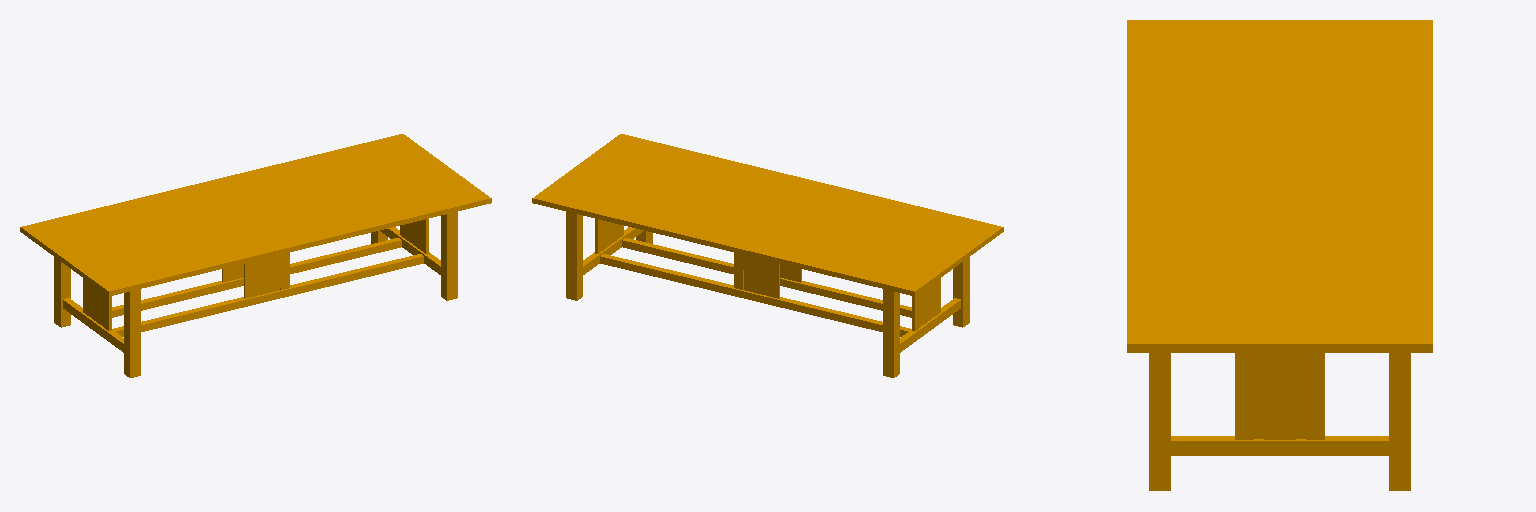
The robot description file, URDF, robot "dining_table_01":
<?xml version="1.0" ?>
<robot name="dining_table_01">
  <link name="baseLink">
    <contact>
      <lateral_friction value="1.0"/>
      <inertia_scaling value="3.0"/>
    </contact>
    <inertial>
      <origin rpy="0 0 0" xyz="-0.000 -0.000 -0.125"/>
       <mass value=".1"/>
       <inertia ixx="1" ixy="0.0" ixz="0.0" iyy="1" iyz="0.0" izz="1"/>
    </inertial>
    <visual>
      <origin rpy="0 0 0" xyz="0 0 0"/>
      <geometry>
        <mesh filename="visual.obj" scale="1.000 1.000 1.000"/>
      </geometry>
    </visual>
    <collision>
      <origin rpy="0 0 0" xyz="0 0 0"/>
      <geometry>
        <mesh filename="visual.obj" scale="1.000 1.000 1.000"/>
      </geometry>
    </collision>
  </link>
</robot>
        

--- What the picture shows (computed from the rendered views, not written in the file) ---
The picture shows the robot from 3 angles, left to right: view 1: azimuth 30°, elevation 25°; view 2: azimuth 150°, elevation 25°; view 3: azimuth 270°, elevation 25°; orthographic projection.
Robot: dining_table_01 — 1 links, 0 joints (none); root link baseLink; default pose: all joints at 0.
Links seen in each view (by area): view 1: baseLink; view 2: baseLink; view 3: baseLink.
Link boxes in pixels (bbox=[...]): baseLink: bbox=[20, 134, 491, 377]; baseLink: bbox=[532, 134, 1003, 377]; baseLink: bbox=[1127, 20, 1432, 490].
Bounding box of the posed robot: 1 × 0.4 × 0.2501 m (x, y, z).
1 mesh visuals loaded from 1 distinct referenced files (1 OBJ).
